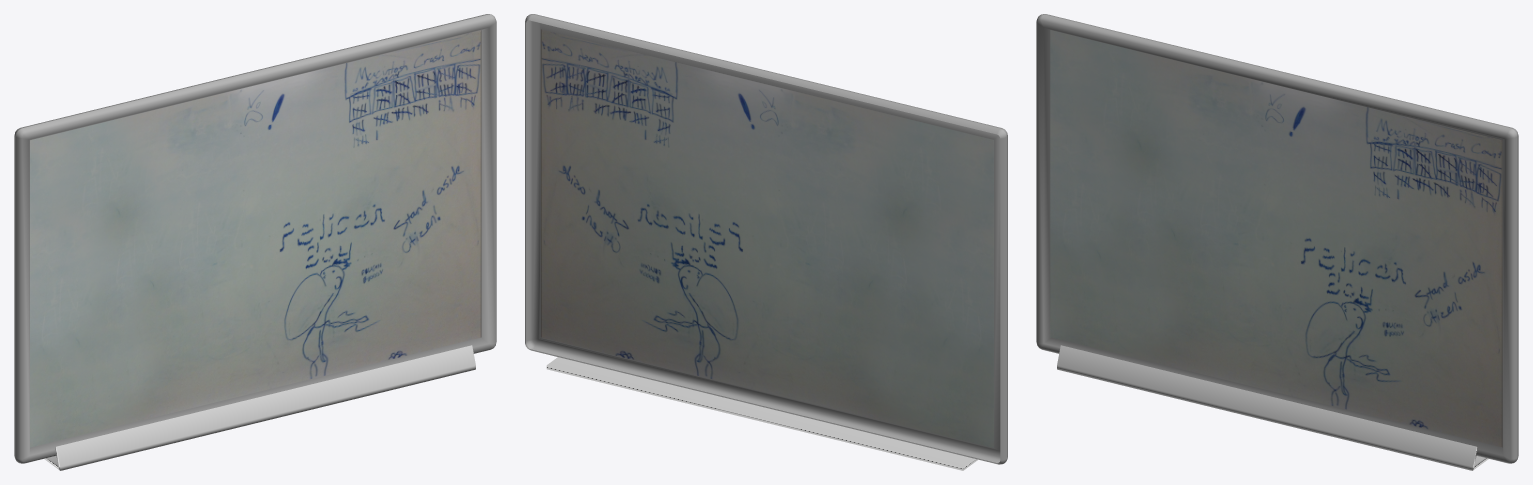
The model's file is Office_Whiteboard_1.fbx.
The picture shows the model from 3 angles, left to right: view 1: azimuth 30°, elevation 25°; view 2: azimuth 150°, elevation 25°; view 3: azimuth 330°, elevation 25°; orthographic projection.
Parts seen in each view (by area): view 1: Office_Whiteboard_1; view 2: Office_Whiteboard_1; view 3: Office_Whiteboard_1.
Boxes of the visible parts, <box> form: Office_Whiteboard_1: <box>14,14,496,470</box>; Office_Whiteboard_1: <box>525,14,1007,470</box>; Office_Whiteboard_1: <box>1036,14,1518,470</box>.
Bounding box in the file's own units: 157 × 106 × 13.71.
